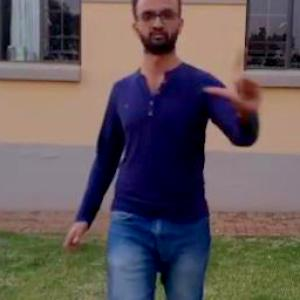land_hand: (202, 46, 270, 108)
